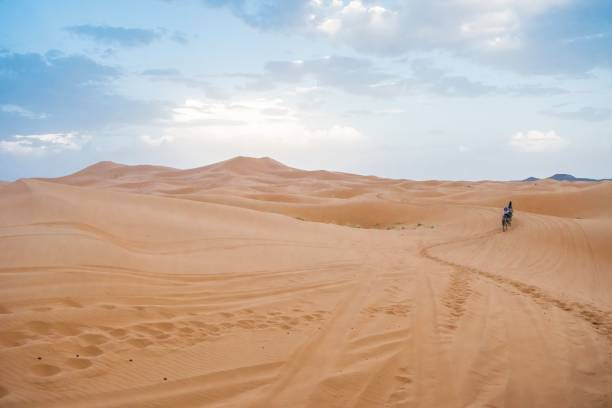vehicle_track: (419, 230, 611, 341), (253, 253, 375, 406), (254, 279, 368, 406), (0, 221, 334, 254), (48, 362, 281, 407), (419, 231, 493, 333), (442, 269, 471, 330)
